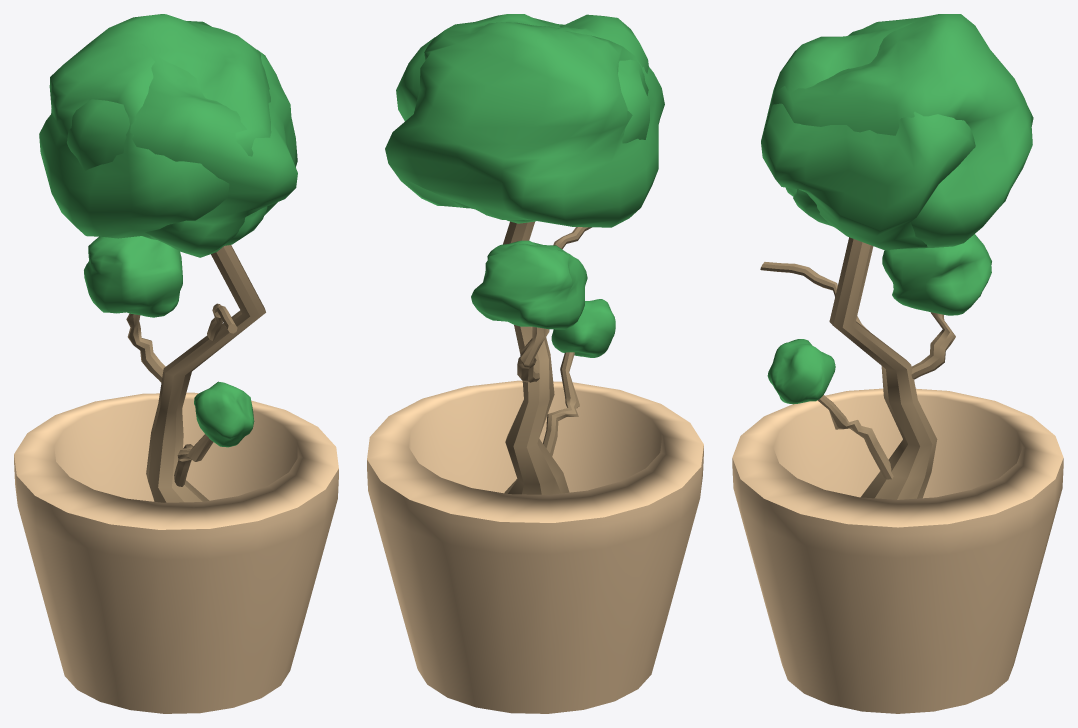
The model's file is LowPolyPlant.fbx.
3 renders of one model, left to right at view 1: azimuth 30°, elevation 25°; view 2: azimuth 150°, elevation 25°; view 3: azimuth 270°, elevation 25°, orthographic. The views are drawn at different scales.
Parts seen in each view (by area): view 1: PottedPlant; view 2: PottedPlant; view 3: PottedPlant.
Boxes of the visible parts, <box> form: PottedPlant: <box>14,14,338,713</box>; PottedPlant: <box>367,14,703,713</box>; PottedPlant: <box>732,14,1063,713</box>.
Bounding box in the file's own units: 7.75 × 16.58 × 7.75.
